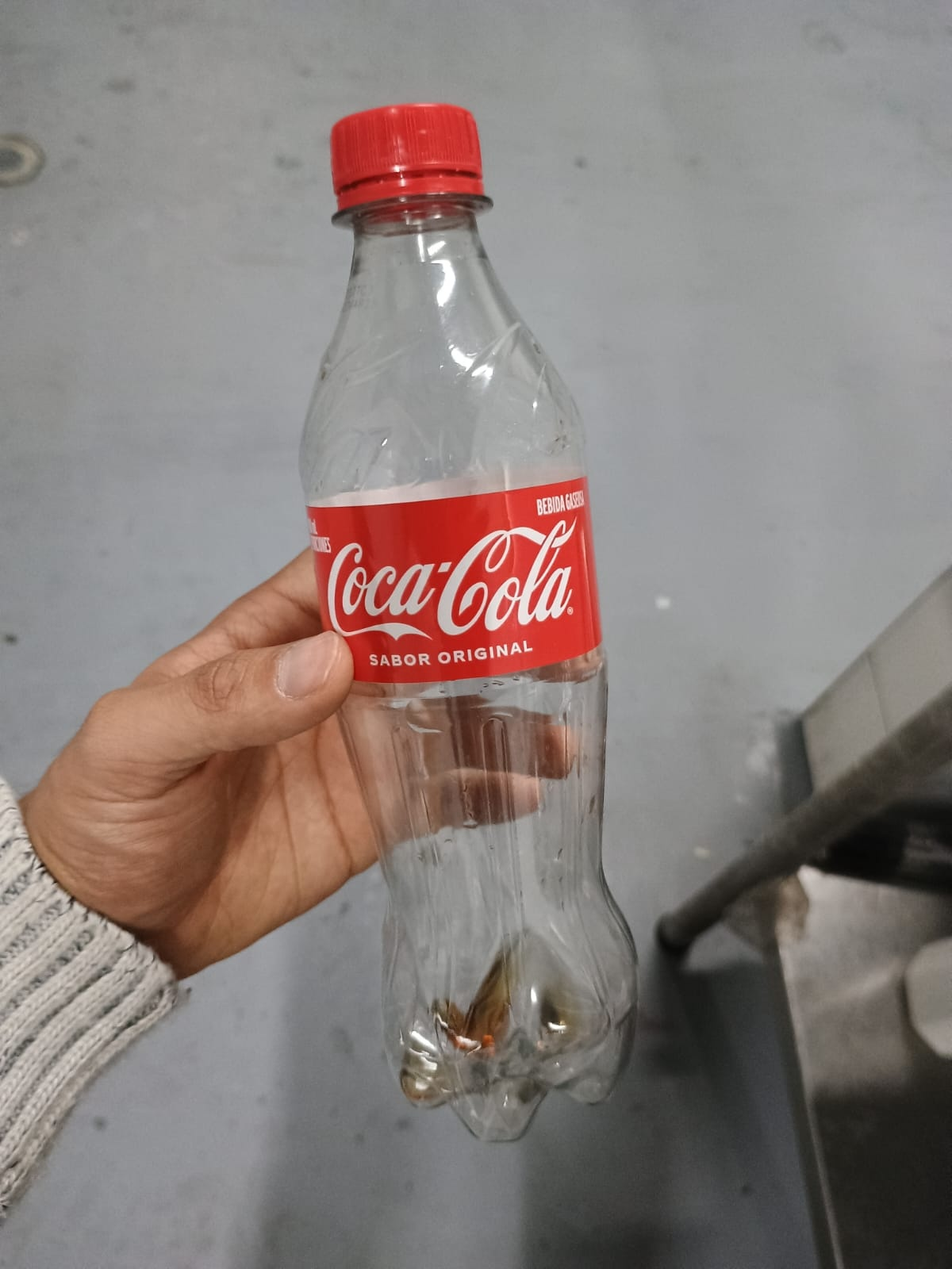Plastico: (301, 99, 643, 1147)
